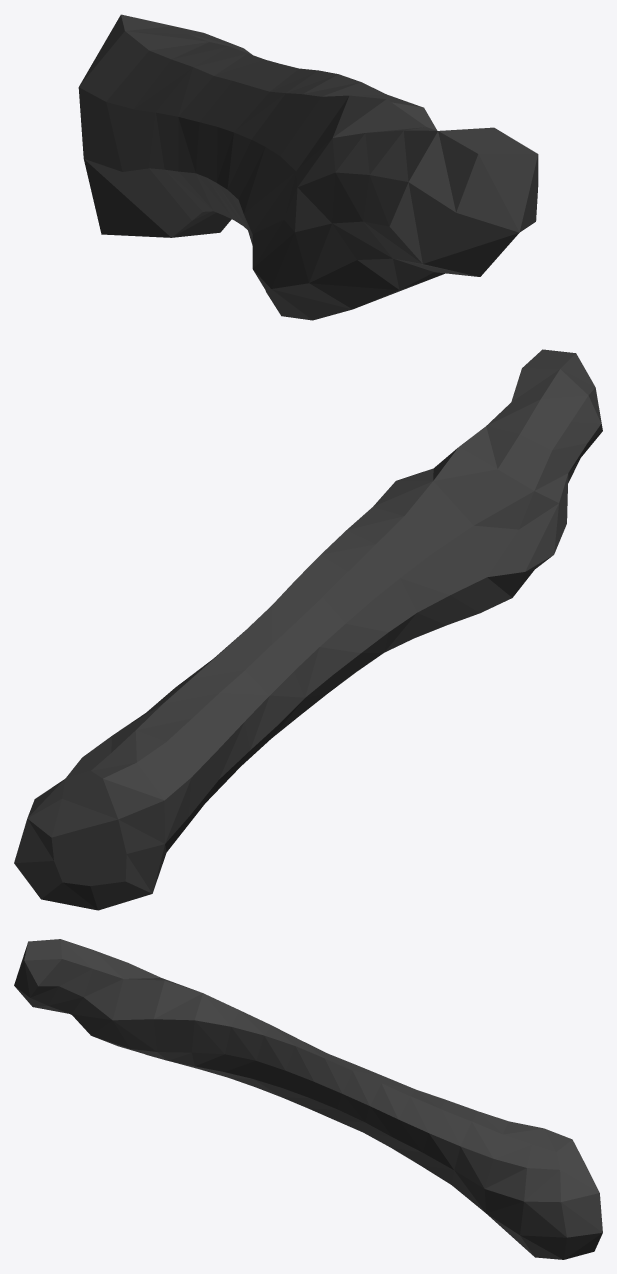
Rendered from L_ceratohyoid.glb.
3 views of the same model, one above another, from view 1: azimuth 30°, elevation 25°; view 2: azimuth 150°, elevation 25°; view 3: azimuth 270°, elevation 25° (orthographic). The views are drawn at different scales.
Parts seen in each view (by area): view 1: L_ceratohyoid; view 2: L_ceratohyoid; view 3: L_ceratohyoid.
Part boxes in pixels (bbox=[...]): L_ceratohyoid: bbox=[78, 14, 538, 320]; L_ceratohyoid: bbox=[14, 349, 602, 910]; L_ceratohyoid: bbox=[14, 939, 602, 1259].
Bounding box in the file's own units: 0.1829 × 0.2258 × 0.4675.
1 material, 1 textured.
